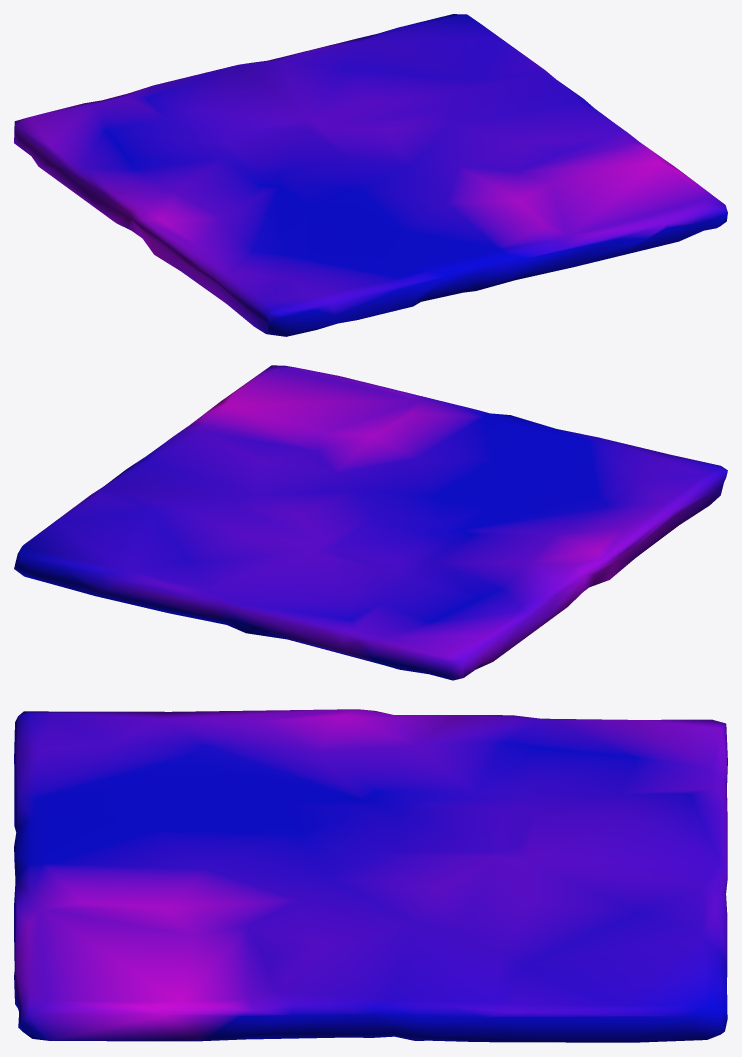
The model's file is SM_Floor_Tile_A.FBX.
3 renders of one model, top to bottom at view 1: azimuth 30°, elevation 25°; view 2: azimuth 150°, elevation 25°; view 3: azimuth 270°, elevation 25°, orthographic. The views are drawn at different scales.
Parts seen in each view (by area): view 1: SM_Floor_Tile_A; view 2: SM_Floor_Tile_A; view 3: SM_Floor_Tile_A.
Boxes of the visible parts, x1,y1,x2,y2 form: SM_Floor_Tile_A: (14,14,727,336); SM_Floor_Tile_A: (14,365,727,680); SM_Floor_Tile_A: (14,709,727,1042).
Size of what is drawn, in the model's own units: 301 by 302 by 19.02.
